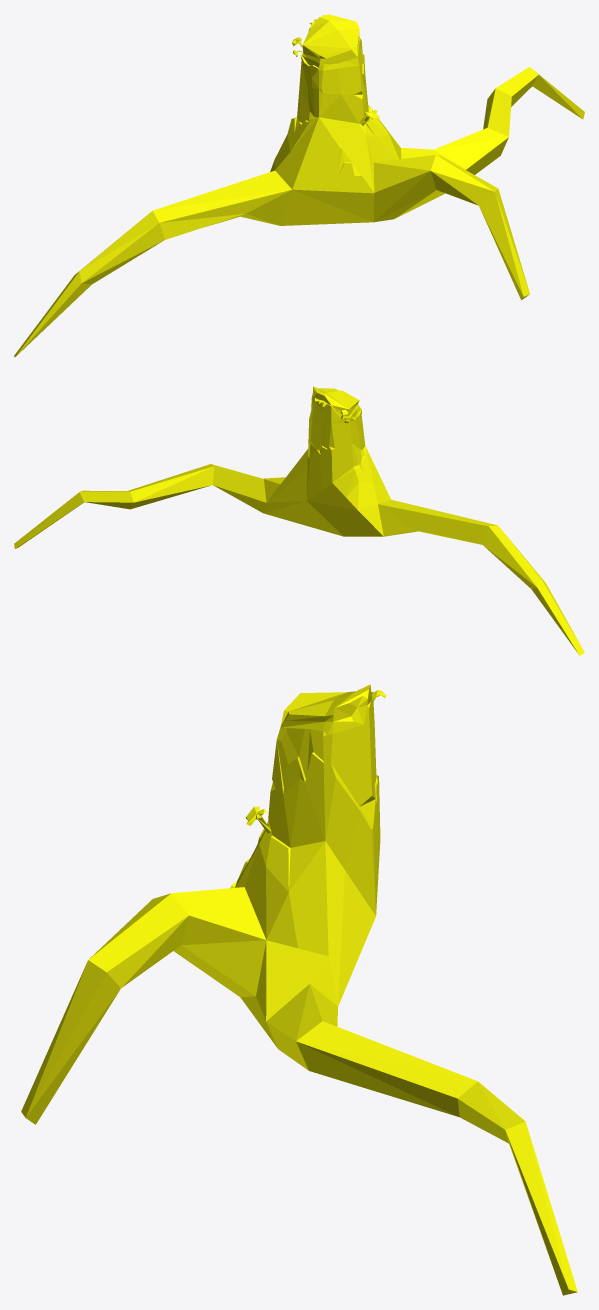
Rendered from stump_a.glb.
The picture shows the model from 3 angles, top to bottom: view 1: azimuth 30°, elevation 25°; view 2: azimuth 150°, elevation 25°; view 3: azimuth 270°, elevation 25°; orthographic projection. The views are drawn at different scales.
Parts seen in each view (by area): view 1: SM_Stump_01_LOD0; view 2: SM_Stump_01_LOD0; view 3: SM_Stump_01_LOD0.
Part boxes in pixels (x1,y1,x2,y2): SM_Stump_01_LOD0: (14, 14, 584, 357); SM_Stump_01_LOD0: (14, 386, 584, 655); SM_Stump_01_LOD0: (21, 684, 577, 1295).
Size of the model in its own units: 3.7 by 1.41 by 1.74.
